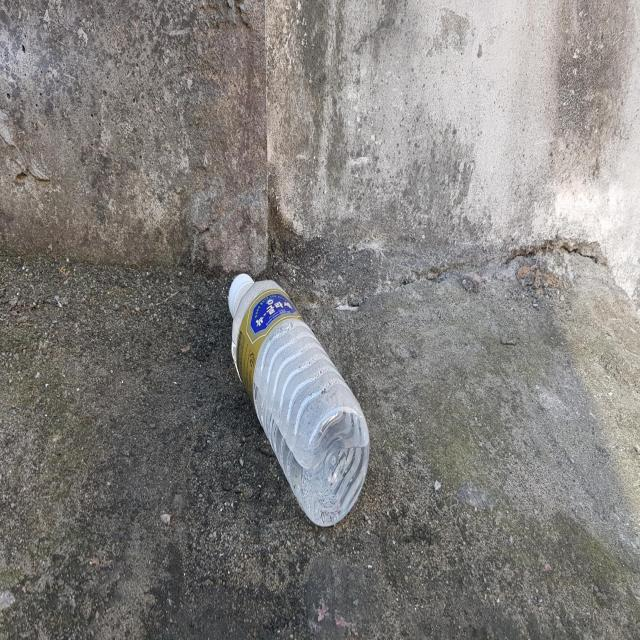plastic: (228, 273, 370, 526)
